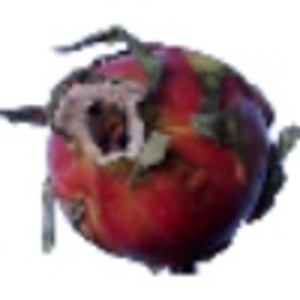pitaia: (1, 25, 300, 277)
